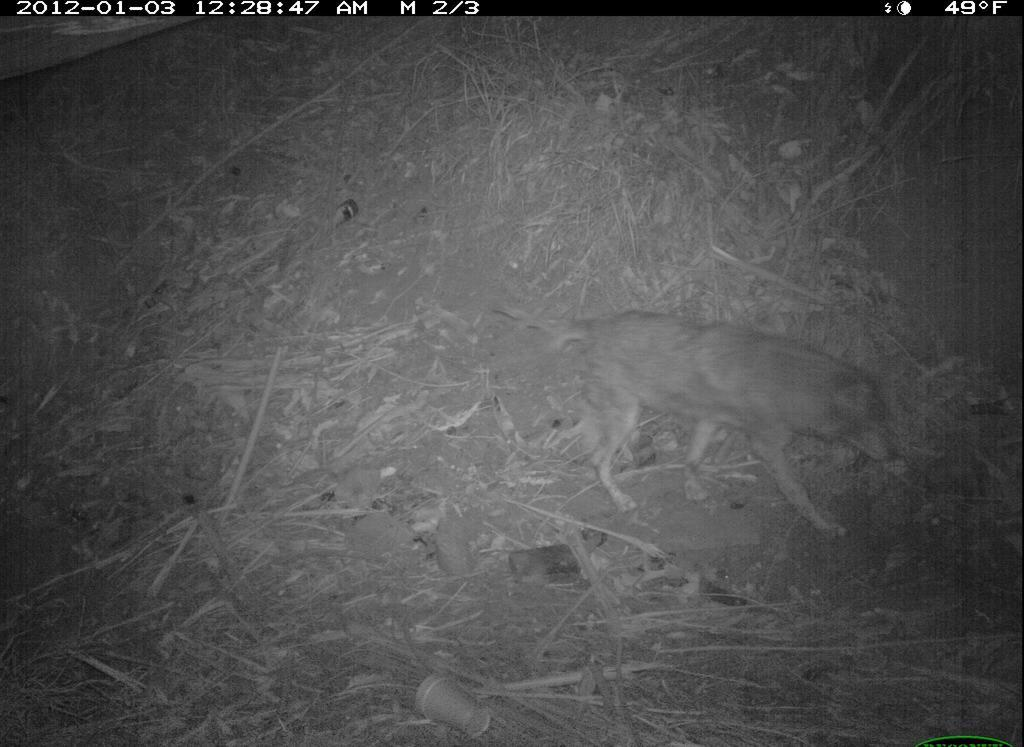coyote: (541, 303, 907, 550)
